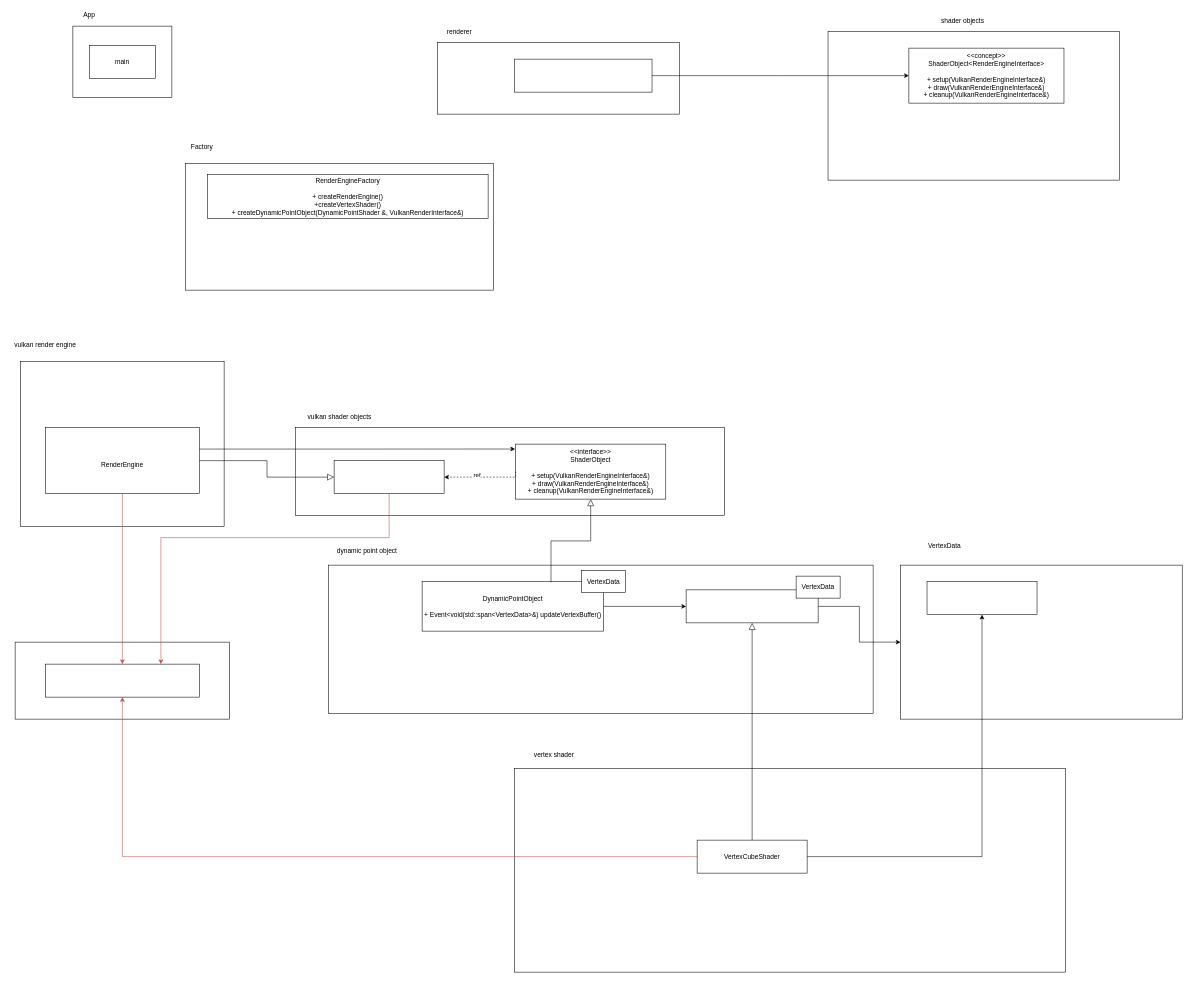
Image size: 1192x982. Some labels were removed from this diagram. Each missing label, with the centre of its shape:
<<concept>> RenderEngine + addShaderObject(ShaderObject): point (583, 75)
<<interface>> DynamicPointShader: point (752, 606)
<<interface>> RenderEngineInterface: point (389, 477)
<<struct>> VertexShaderData: point (981, 598)
vulkan: point (122, 680)
